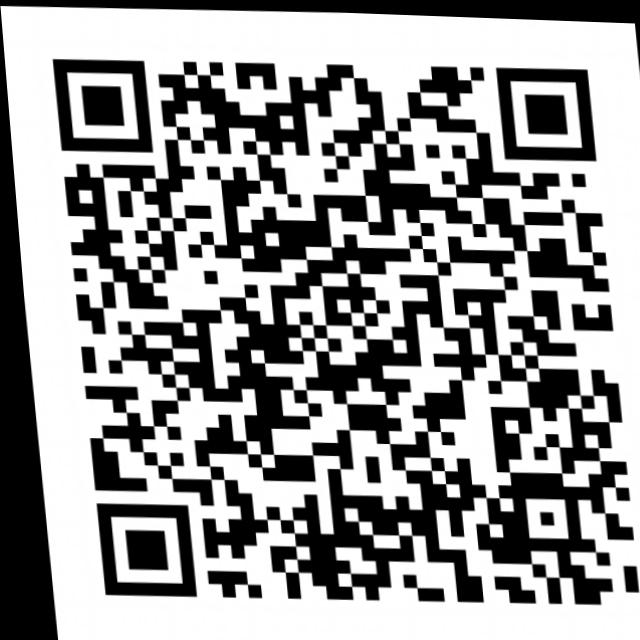QR_CODE: (35, 33, 640, 628)
